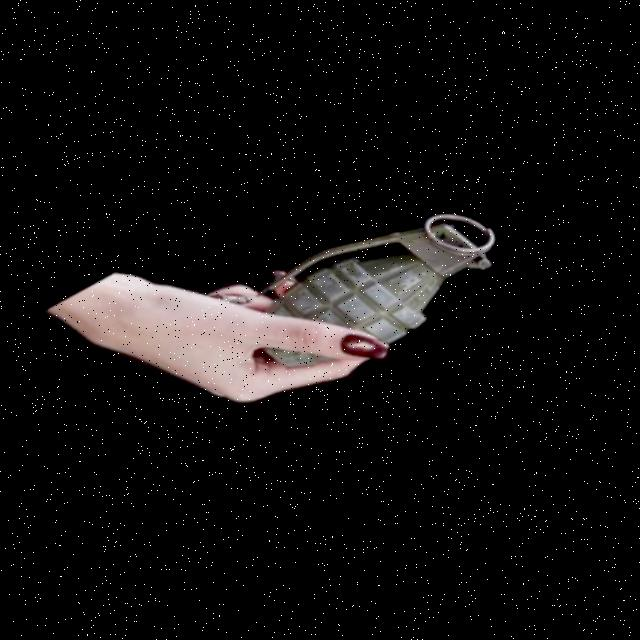grenade: (207, 160, 526, 438)
